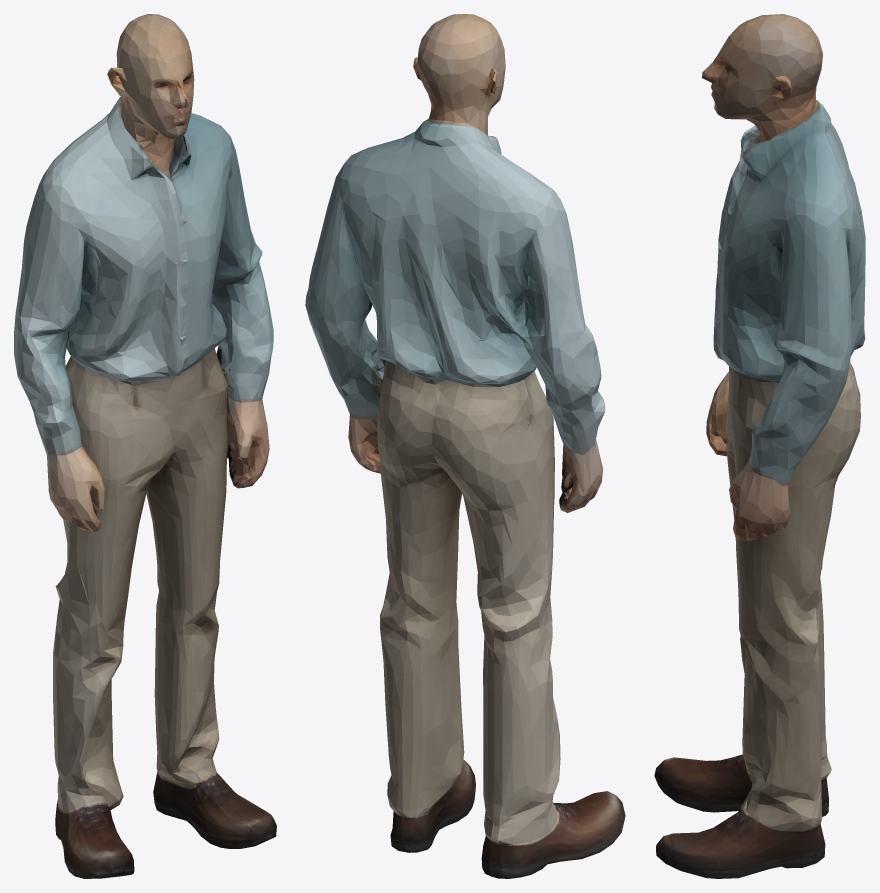
Rendered from civilian.glb.
The picture shows the model from 3 angles, left to right: view 1: azimuth 30°, elevation 25°; view 2: azimuth 150°, elevation 25°; view 3: azimuth 270°, elevation 25°; orthographic projection. The views are drawn at different scales.
Parts seen in each view (by area): view 1: geometry_0; view 2: geometry_0; view 3: geometry_0.
Boxes of the visible parts, left/top/right/bottom form: geometry_0: left=14, top=14, right=276, bottom=878; geometry_0: left=305, top=14, right=625, bottom=878; geometry_0: left=654, top=14, right=865, bottom=878.
Size of the model in its own units: 0.3355 by 0.9988 by 0.2318.
Materials: 1 (1 with a texture image).
